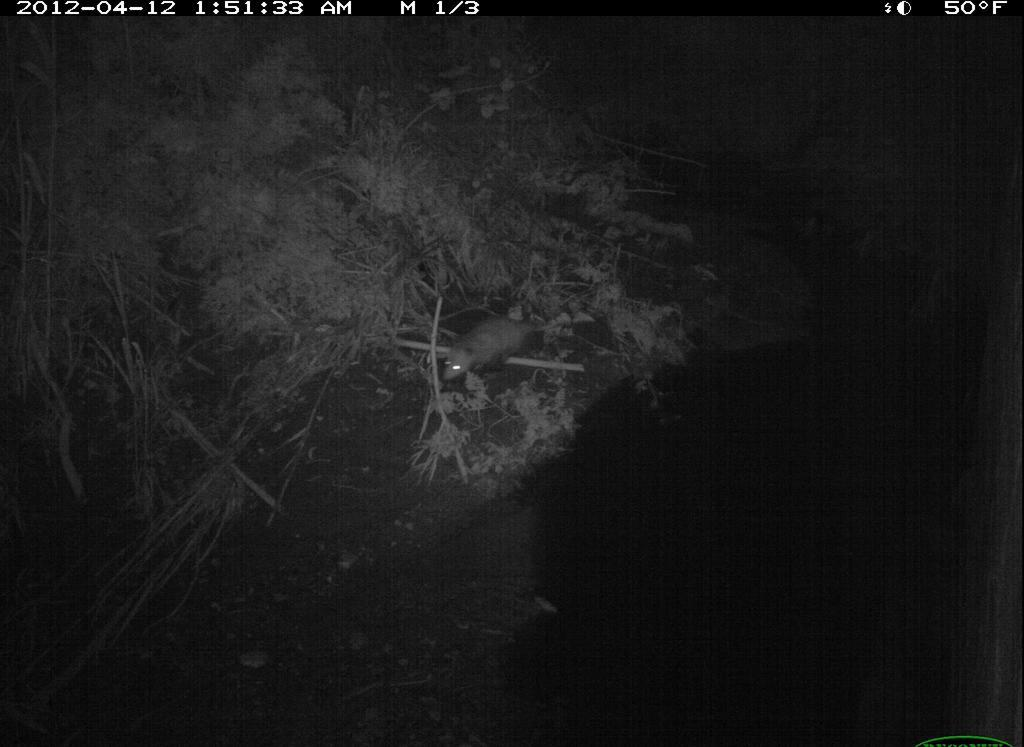opossum: (441, 314, 552, 399)
